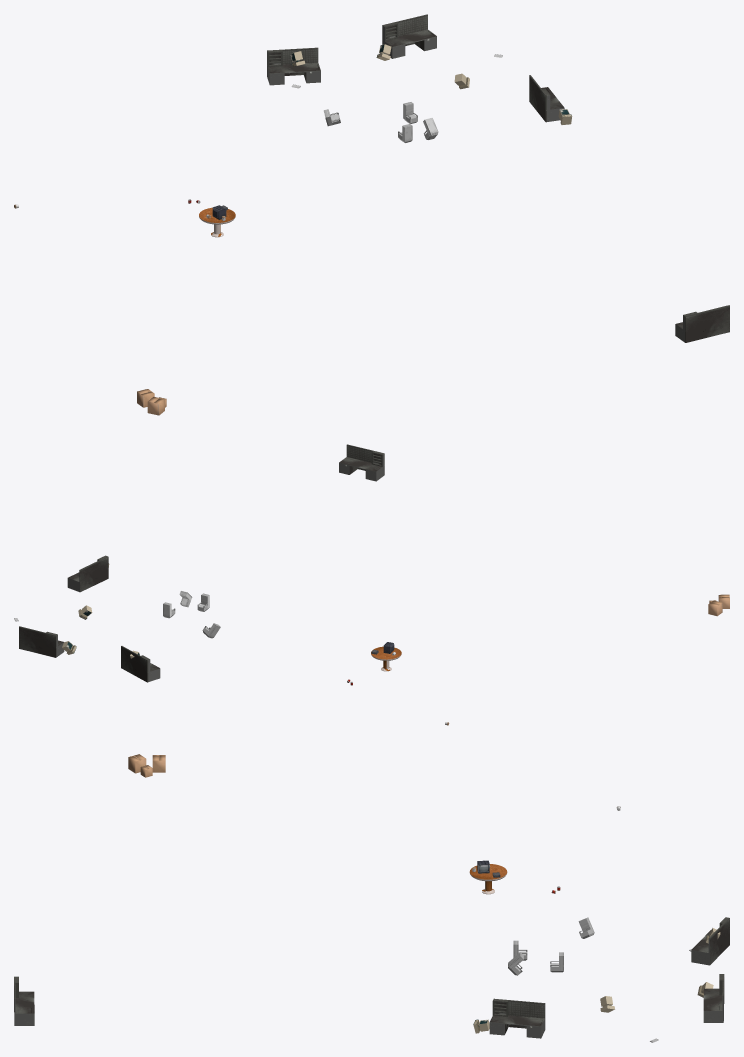
Rendered from map1 props.fbx.
3 views of the same model, one above another, from view 1: azimuth 30°, elevation 25°; view 2: azimuth 150°, elevation 25°; view 3: azimuth 270°, elevation 25° (orthographic). The views are drawn at different scales.
Visible parts, largest first — view 1: Cube.371, Cube.374, Cube.375, Cube.441; view 2: Cube.375, Cube.371, Cube.441, Cube.374; view 3: Cube.441, Cube.374, Cube.371, Cube.375, Circle.
Part boxes in pixels (bbox=[...]): Cube.371: bbox=[382, 14, 436, 58]; Cube.374: bbox=[267, 47, 320, 85]; Cube.375: bbox=[675, 305, 729, 342]; Cube.441: bbox=[529, 75, 564, 122]; Cube.375: bbox=[339, 444, 384, 481]; Cube.371: bbox=[19, 626, 64, 657]; Cube.441: bbox=[67, 555, 108, 592]; Cube.374: bbox=[121, 646, 160, 682]; Cube.441: bbox=[489, 998, 545, 1038]; Cube.374: bbox=[691, 917, 729, 965]; Cube.371: bbox=[703, 974, 724, 1022]; Cube.375: bbox=[14, 976, 34, 1025]; Circle: bbox=[469, 864, 507, 894].
Size of the model in its own units: 606 by 53.68 by 608.
